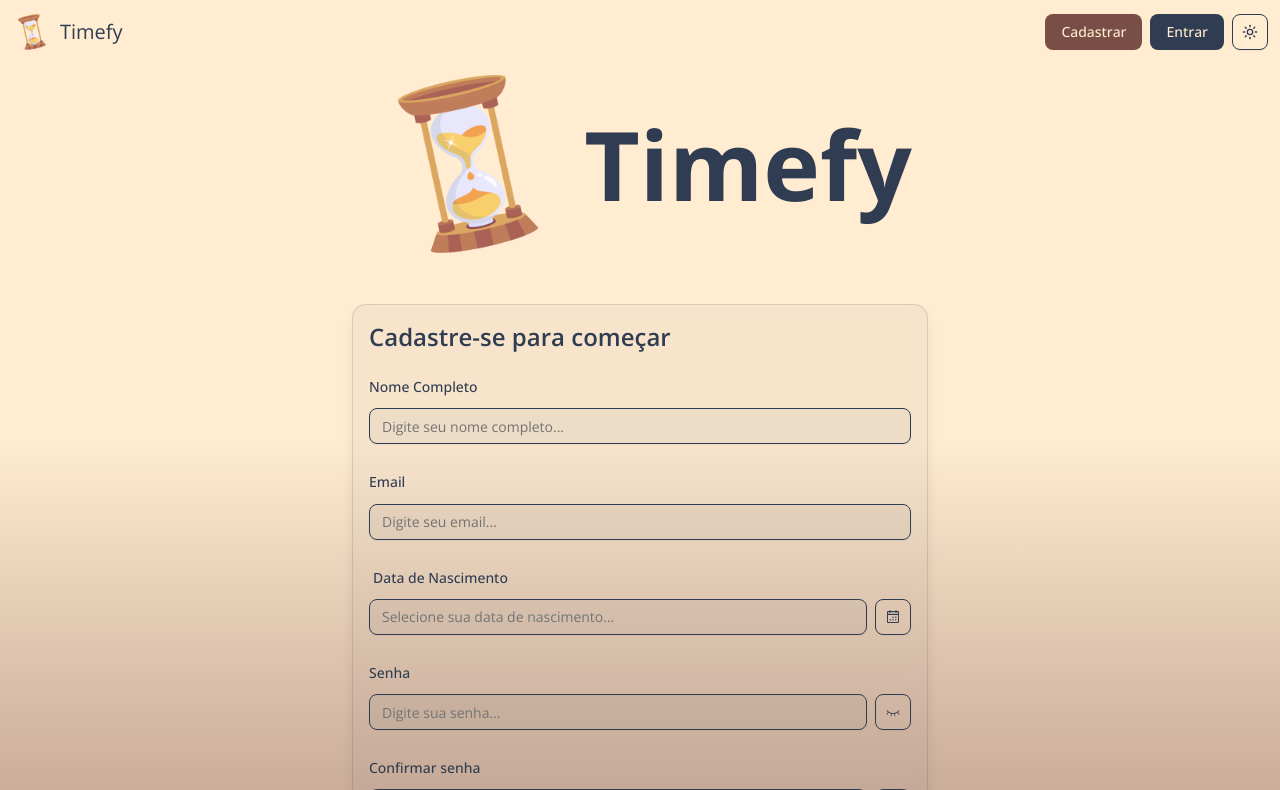
SignUpPage › Form Validation › should show error when email is invalid
This screenshot has width=1280, height=790.
In the field labelled "Email": coordinates (640, 522) [369,504,911,540], type "email@invalid"
(page scrolled)
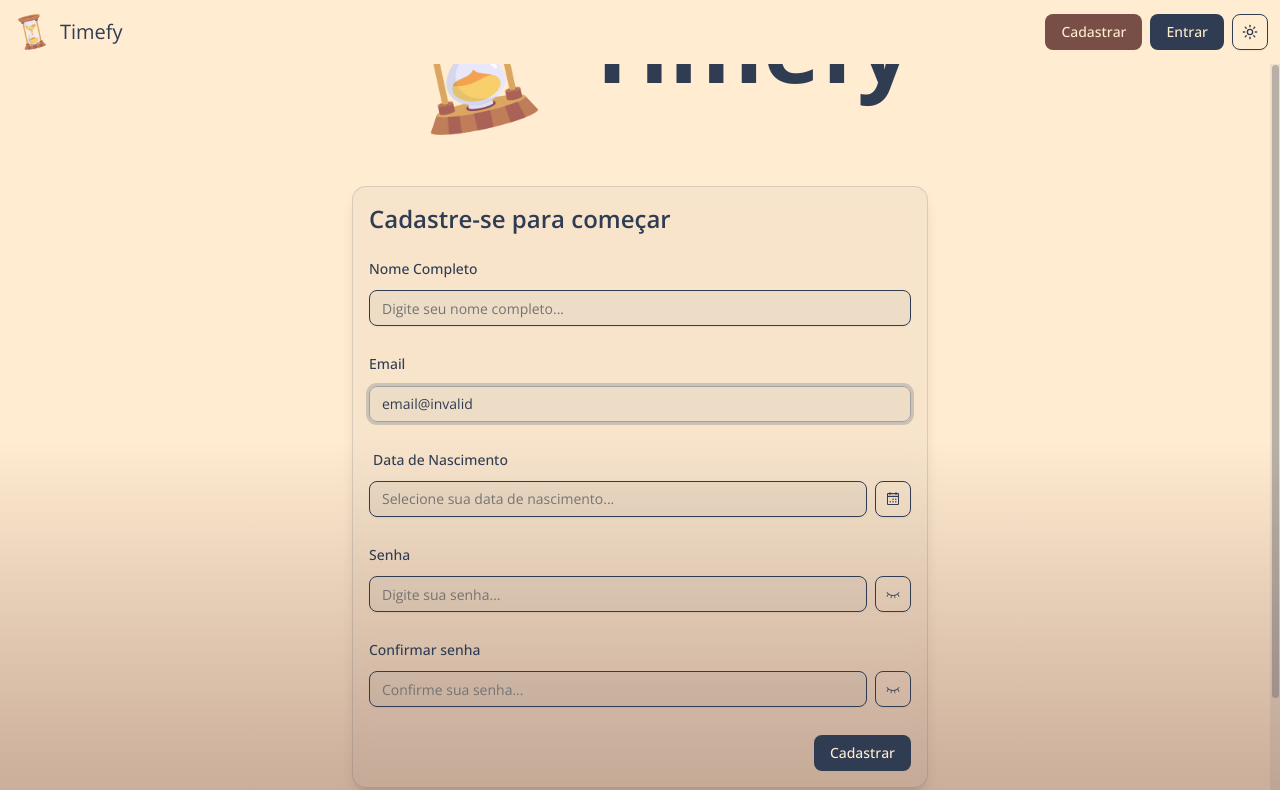
Click the 2nd button "Cadastrar": coordinates (862, 753) [814,735,911,771]
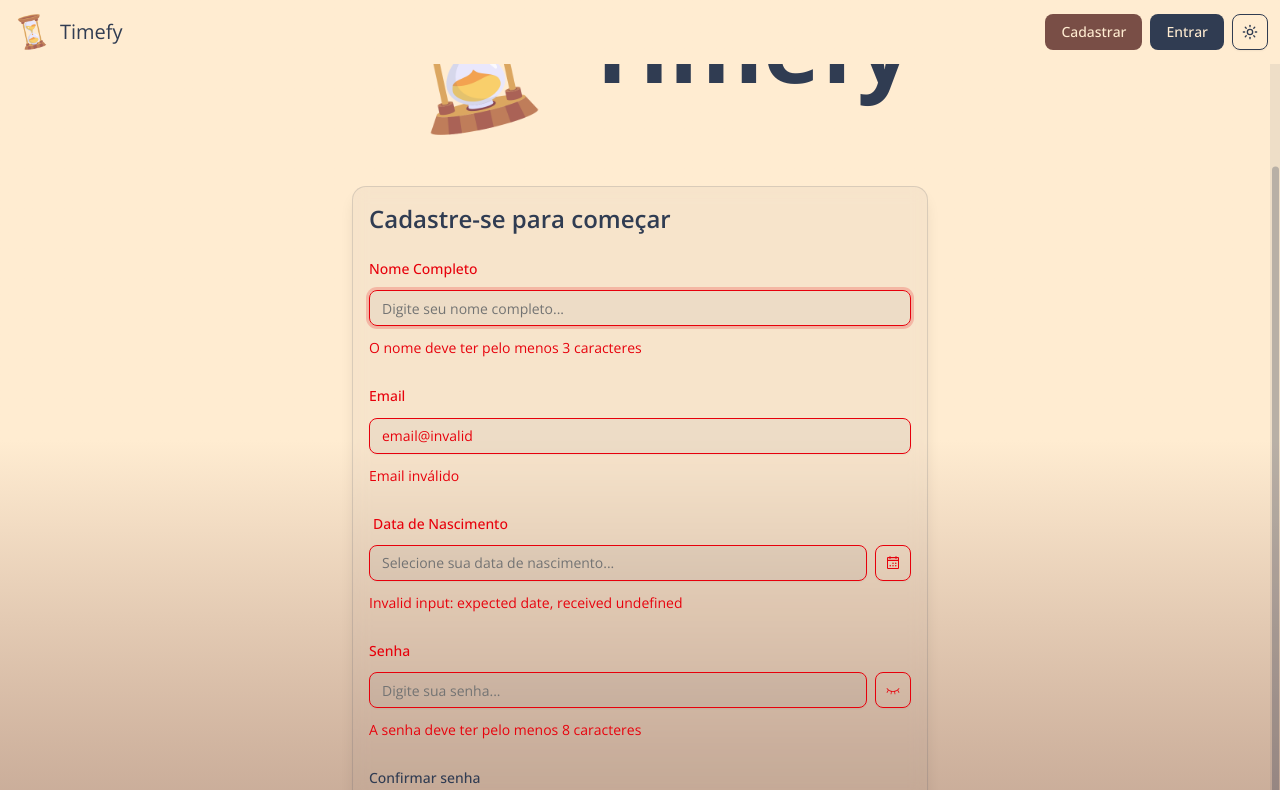
expect the text "Email inválido" is shown: met, box [369,466,459,484]
